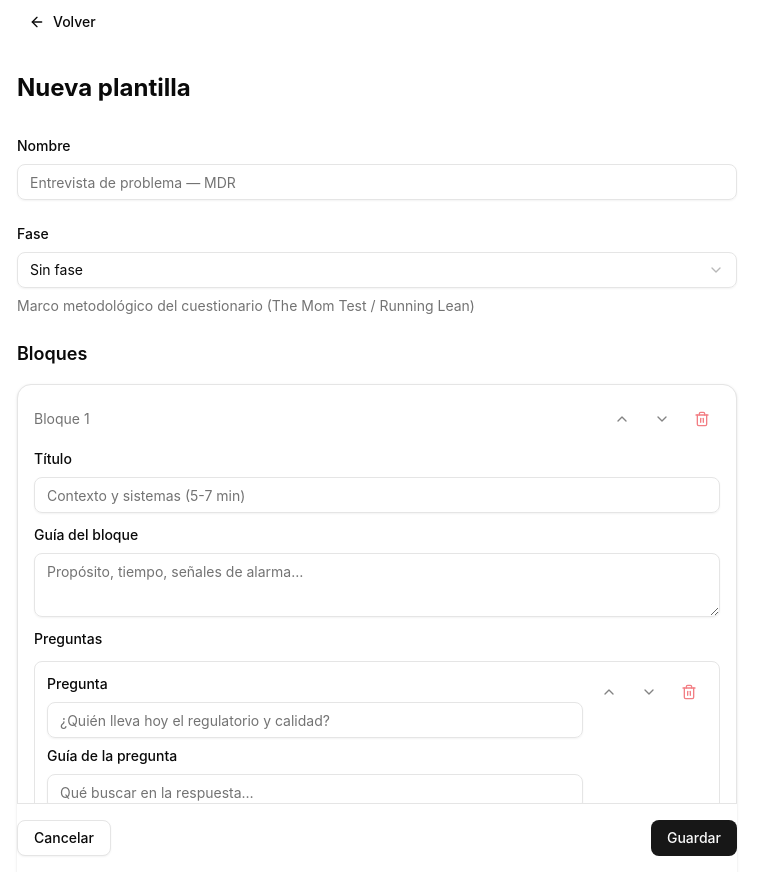
Scenario: InterviewTemplateEditorPage › saving › shows nested "Campo requerido" errors for name, block title and question text without persisting
Click the button "Guardar".
click(694, 838)  # box left=651, top=820, right=737, bottom=856
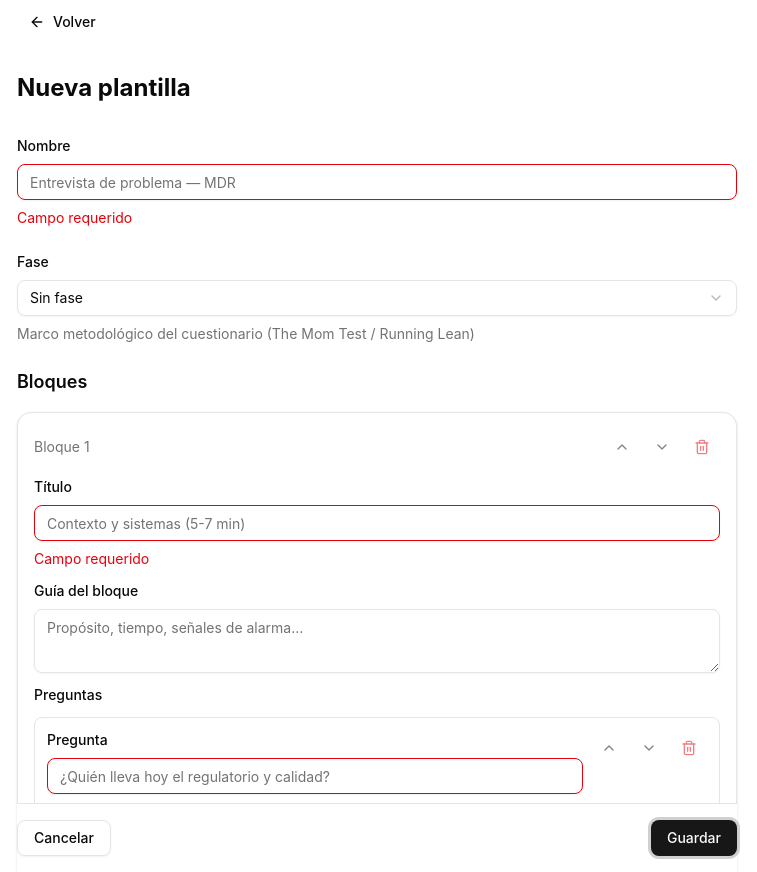
Expected: the text "Campo requerido" is shown 3 times, left=17, top=209, right=132, bottom=226; left=34, top=550, right=149, bottom=567; left=47, top=803, right=162, bottom=820
